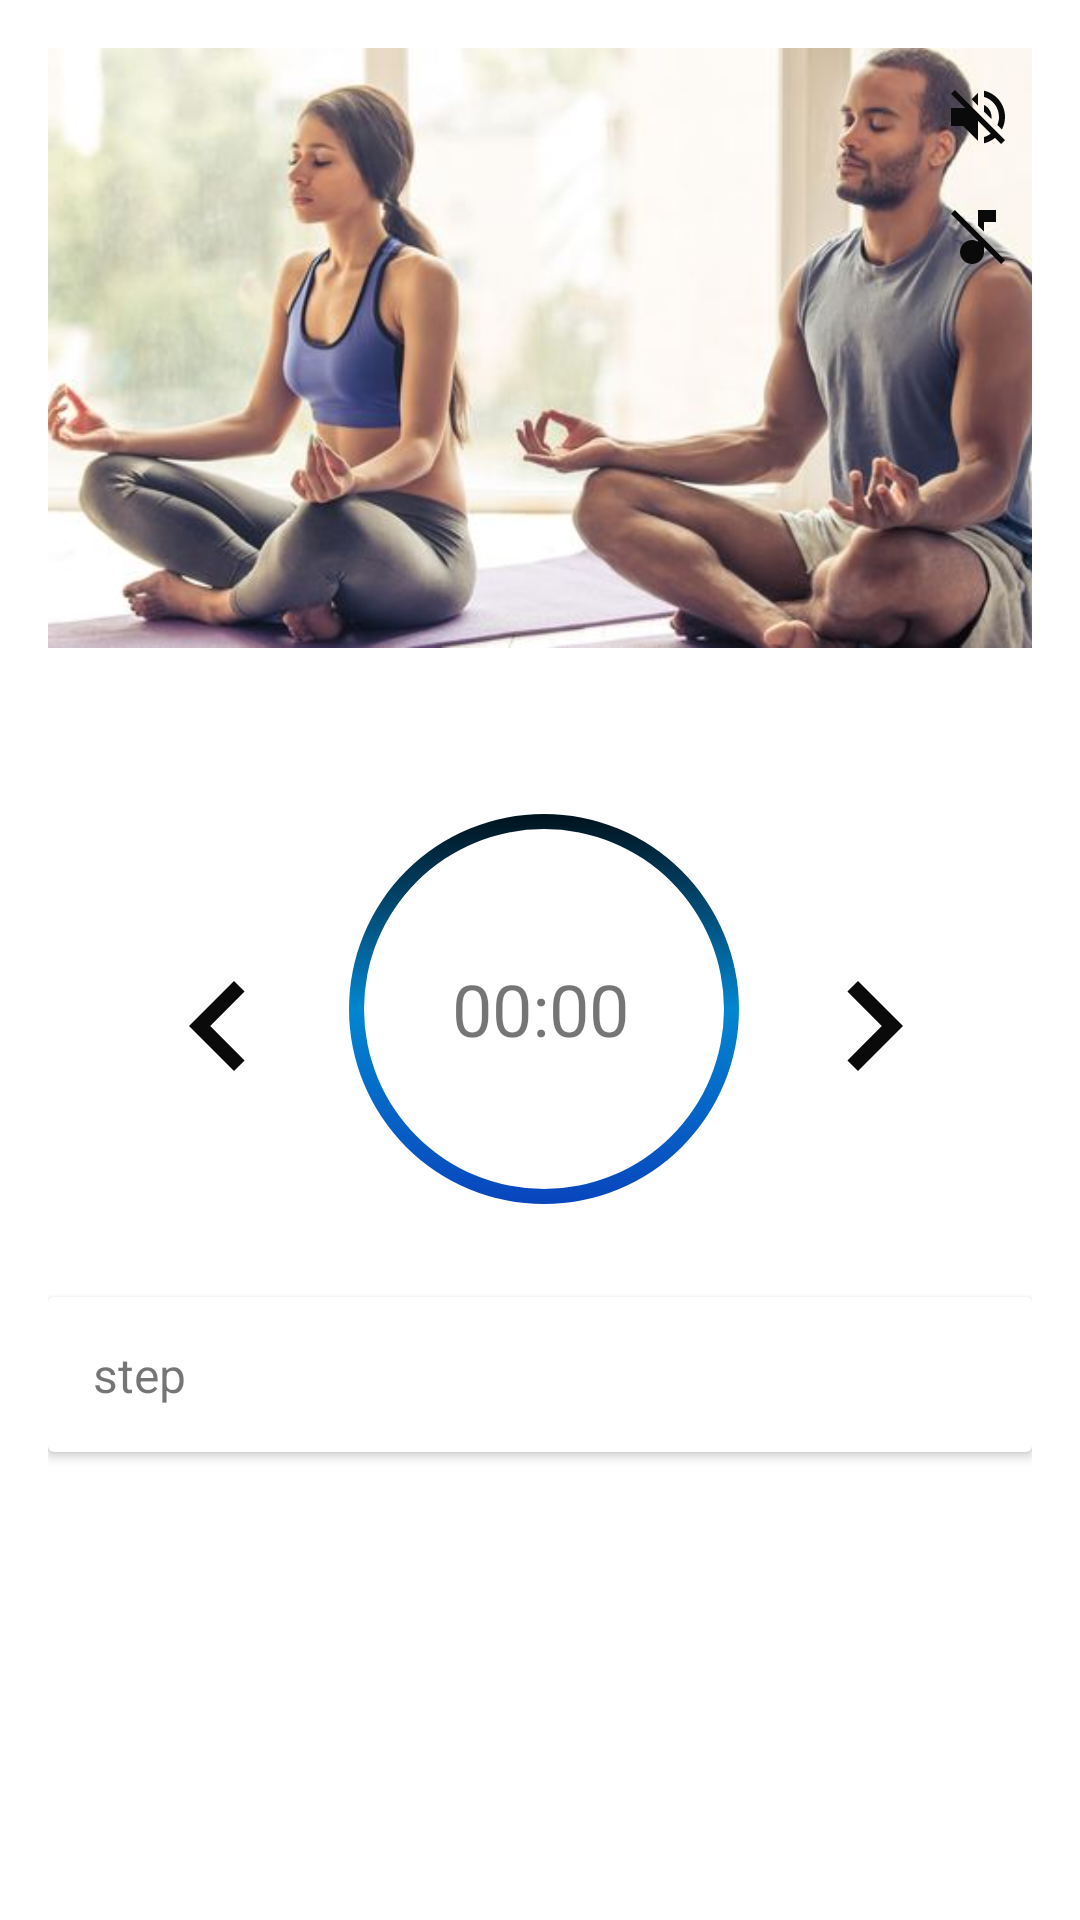

Icon click points for this 1080 × 1920 phone screenshot, format (x=x, y=y):
music off: (x=978, y=237)
navigate before: (x=217, y=1026)
navigate next: (x=875, y=1026)
volume off: (x=973, y=117)
